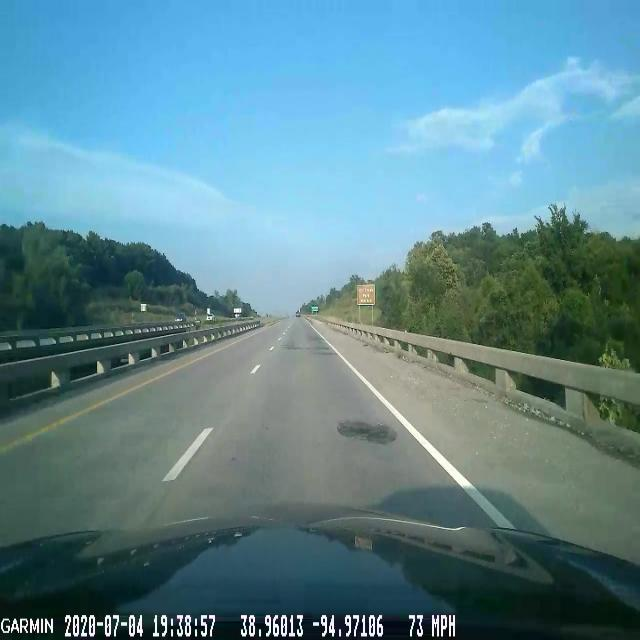Pothole: (334, 412, 401, 452)
